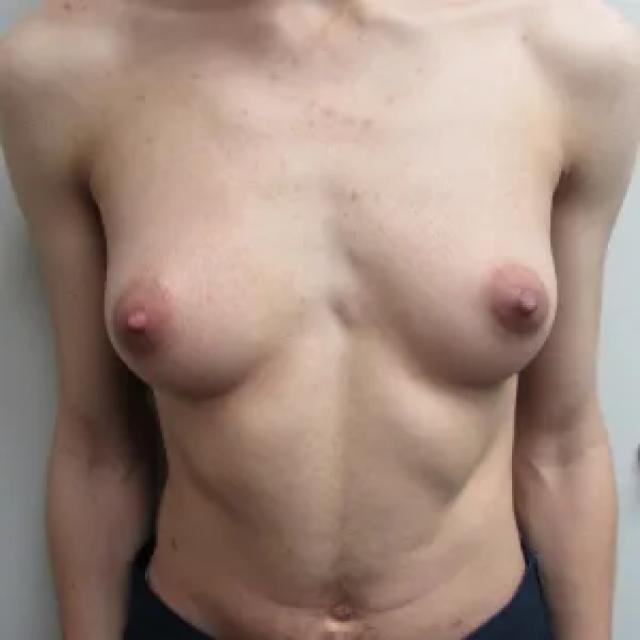Seno ileso: (335, 188, 572, 420), (88, 186, 322, 419)
